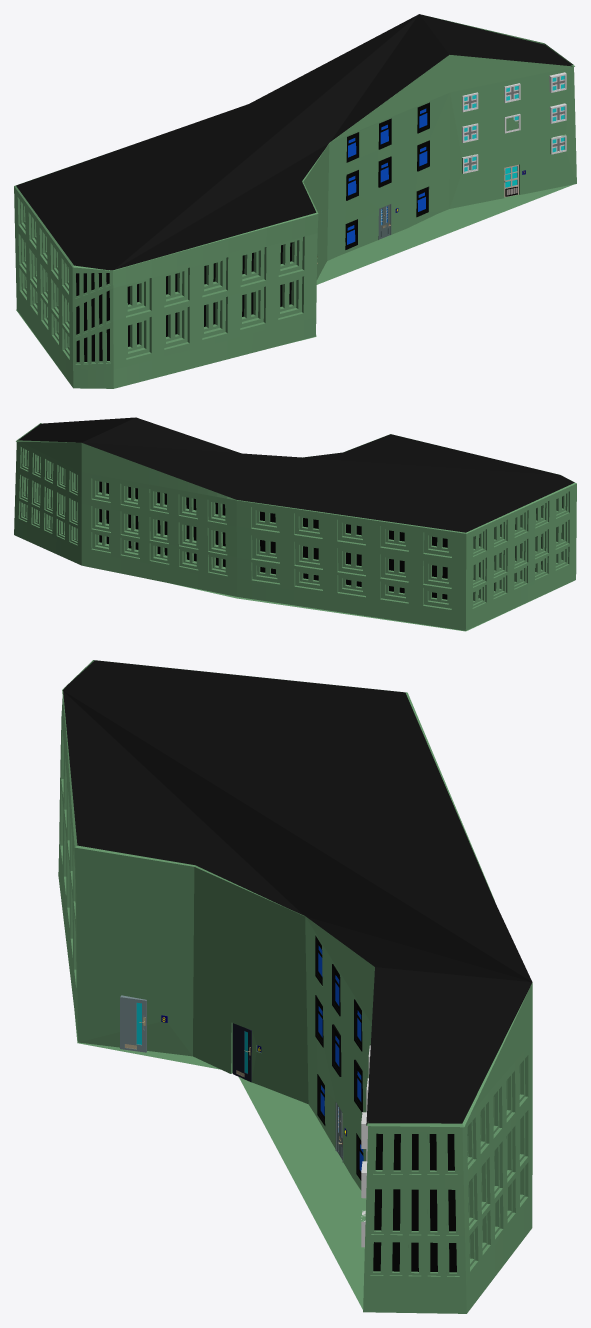
The model's file is WestralCloseHouse2.fbx.
3 views of the same model, one above another, from view 1: azimuth 30°, elevation 25°; view 2: azimuth 150°, elevation 25°; view 3: azimuth 270°, elevation 25° (orthographic). The views are drawn at different scales.
Visible parts, largest first — view 1: Vert.007, Cube.009; view 2: Vert.007; view 3: Vert.007, Cube.036, Cube.026.
Boxes of the visible parts, x1,y1,x2,y2 form: Vert.007: [14, 14, 576, 388]; Cube.009: [462, 72, 566, 173]; Vert.007: [14, 417, 576, 631]; Vert.007: [58, 660, 532, 1313]; Cube.036: [120, 995, 146, 1052]; Cube.026: [232, 1023, 251, 1082].
Bounding box in the file's own units: 7809 × 2036 × 3414.
